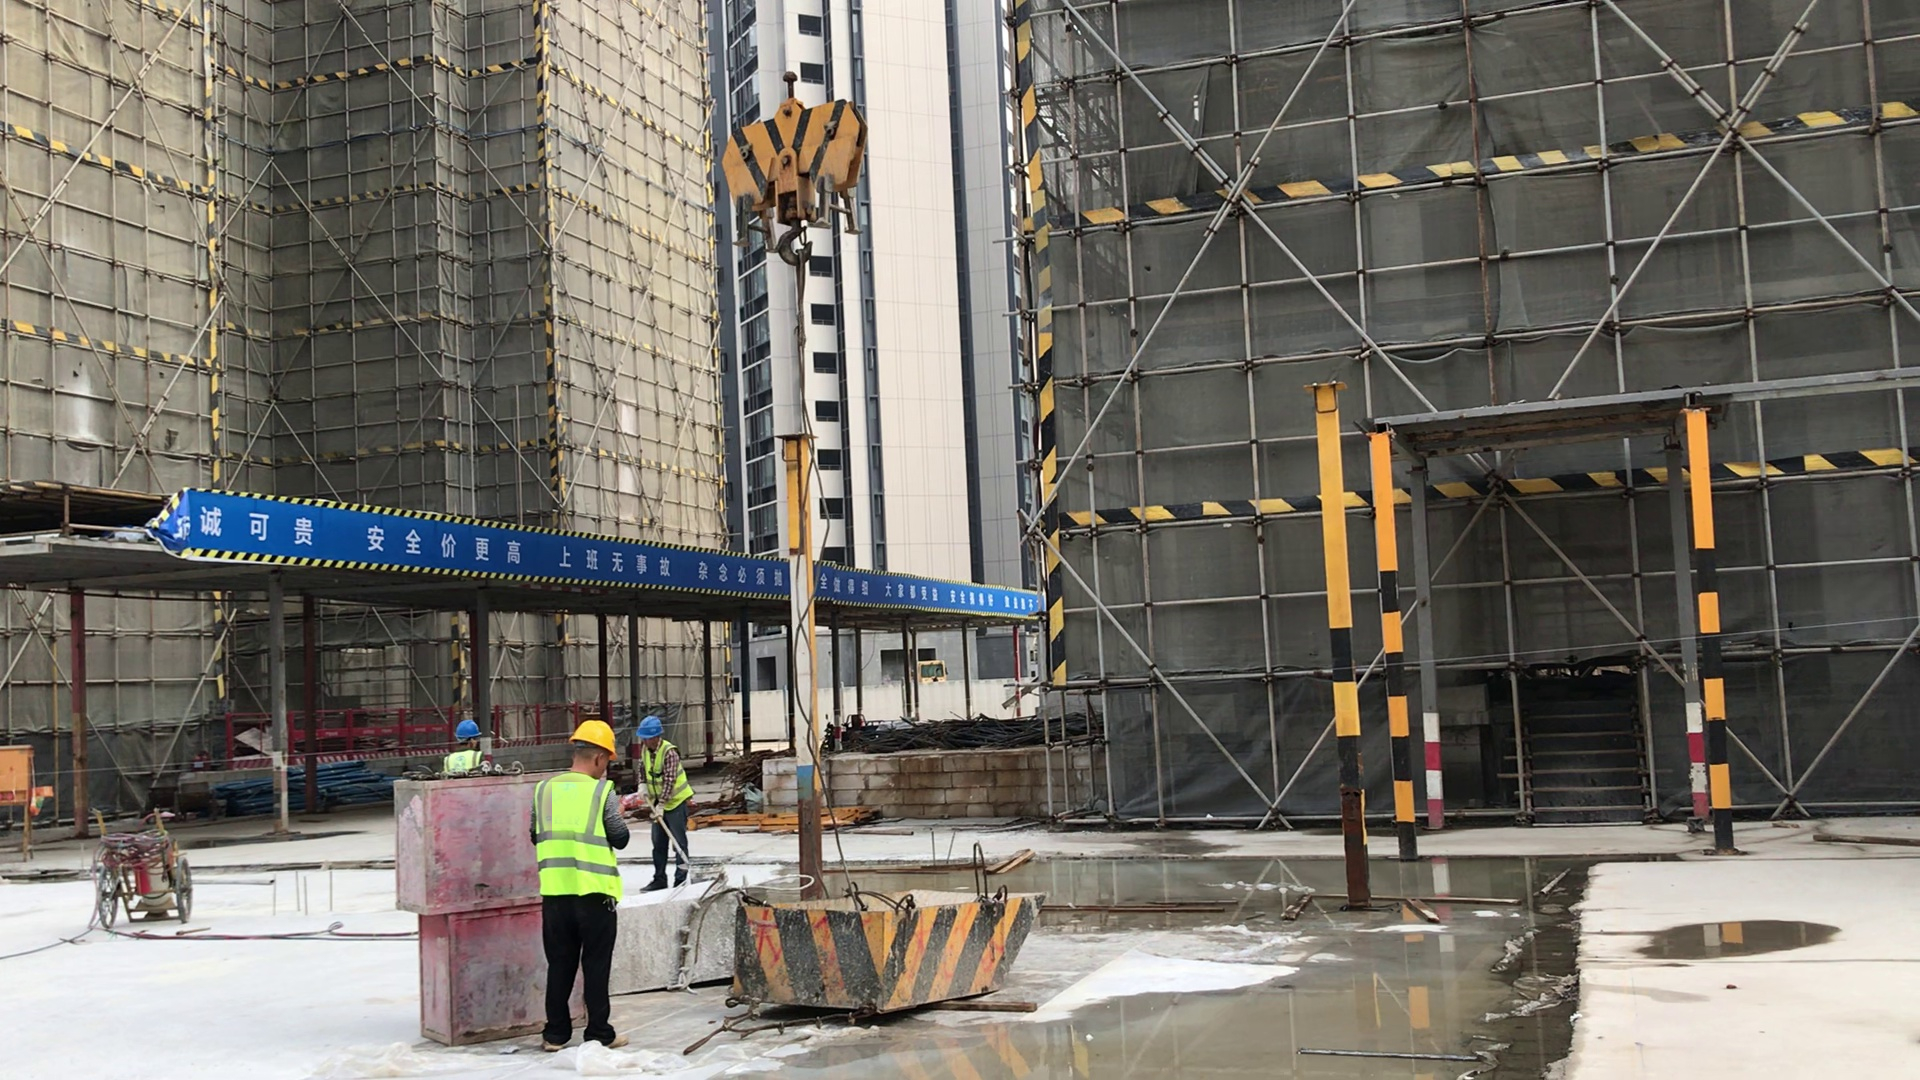ebox: (1, 743, 32, 803)
fence: (232, 703, 575, 770)
handcart: (96, 808, 192, 924)
helmet: (571, 718, 612, 750), (639, 712, 665, 735), (454, 719, 481, 739)
hook: (717, 73, 865, 268)
hopper: (733, 889, 1048, 1018), (616, 881, 759, 997)
person: (532, 716, 635, 1056), (635, 715, 692, 893), (442, 722, 490, 774)
slogan: (173, 487, 1040, 618)
vest: (529, 772, 621, 903), (640, 741, 692, 813), (443, 751, 486, 775)
